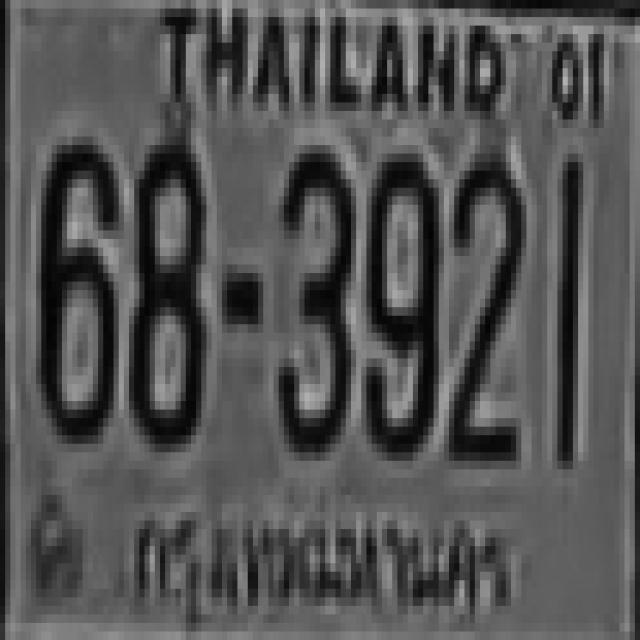1: (554, 158, 580, 465)
2: (449, 154, 521, 460)
3: (274, 145, 351, 452)
6: (36, 137, 114, 435)
8: (124, 128, 201, 444)
9: (359, 145, 436, 452)
Bangkok: (128, 499, 523, 630)
